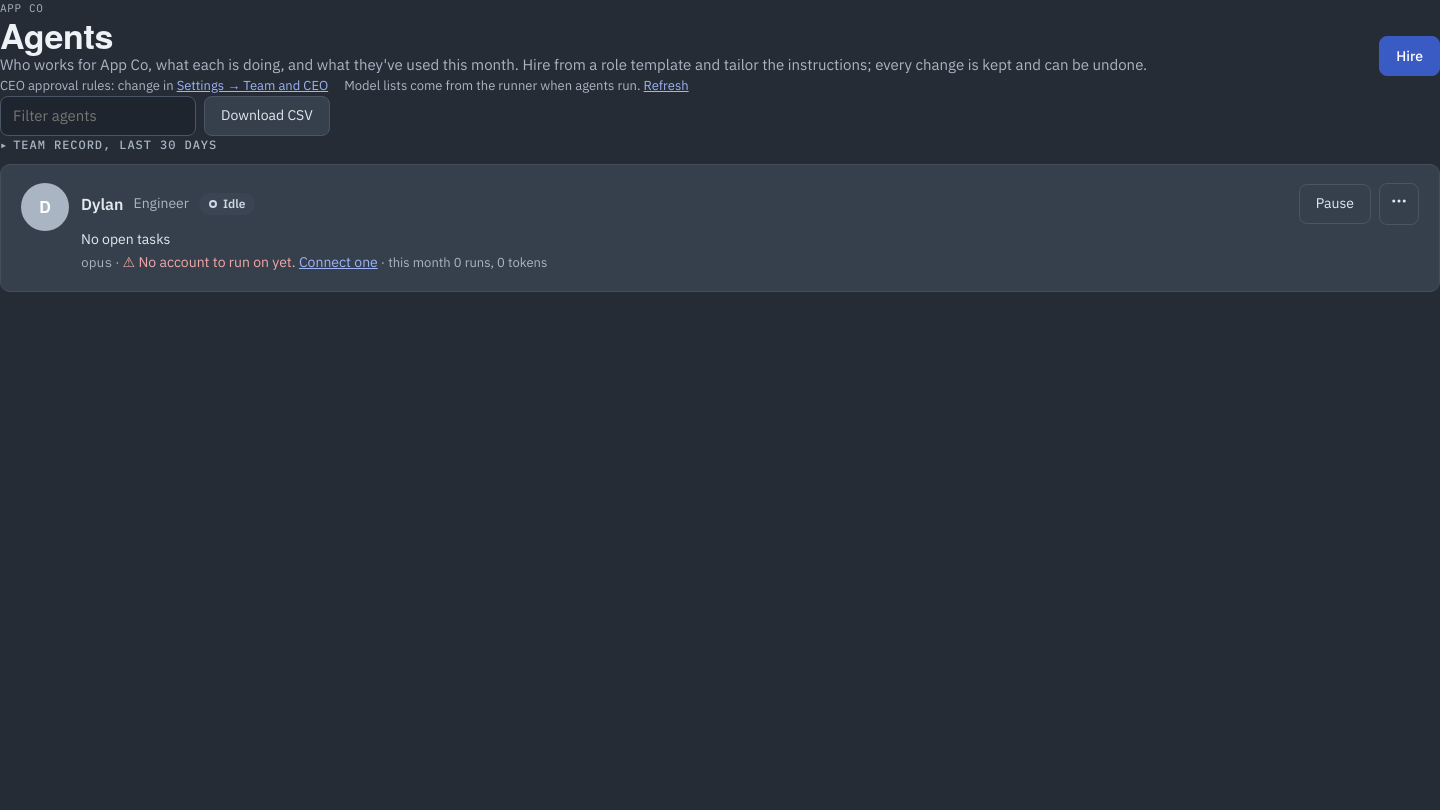
Test: agent working hours (BOS-2200) › is off by default, and saves days, times and zone when turned on
Later steps or results of the test are not shown.
Click the button "Dylan" at (102, 204), box [81,188,124,220]
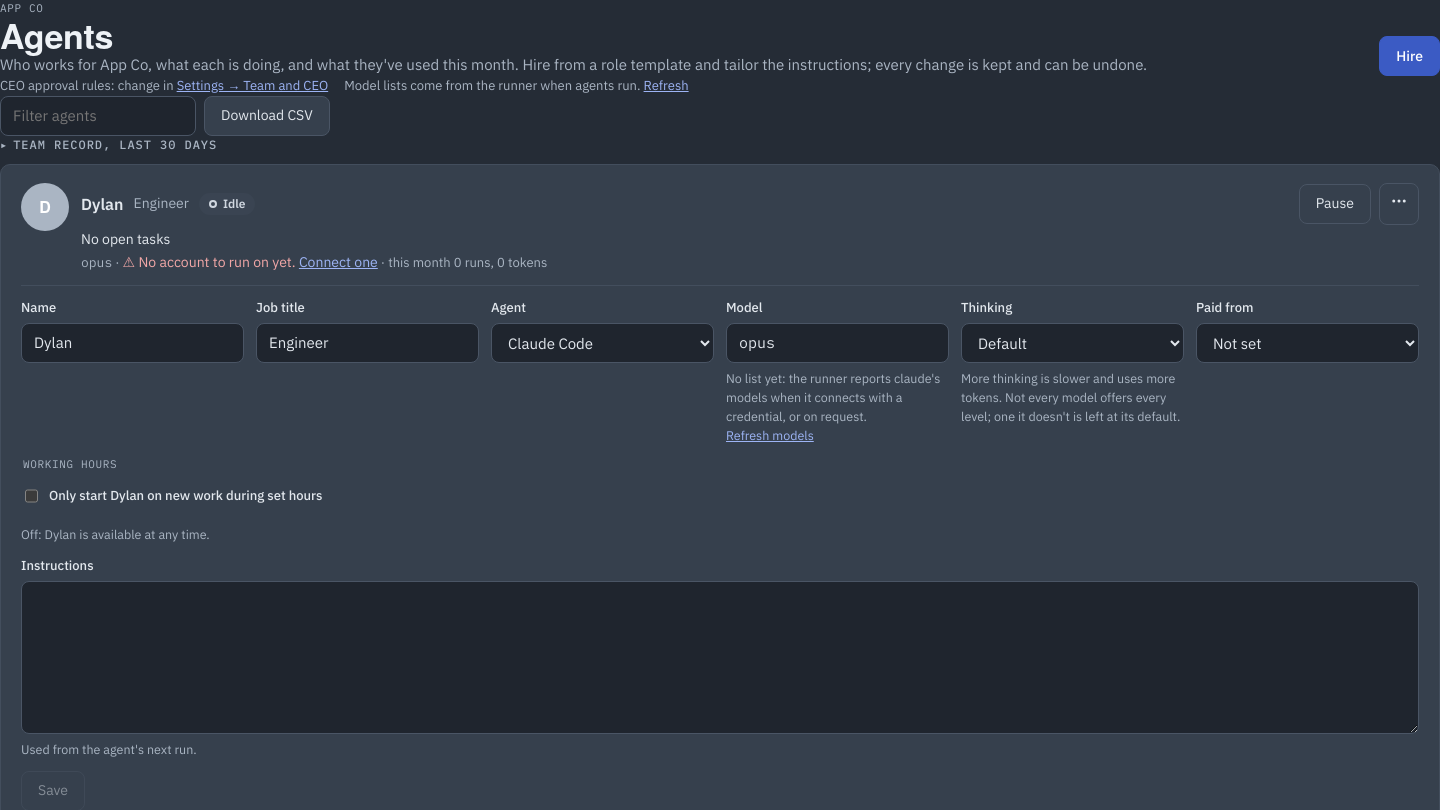
Expected: the checkbox labelled "Only start Dylan on new work during set hours" is not checked, [25,476,38,516]
